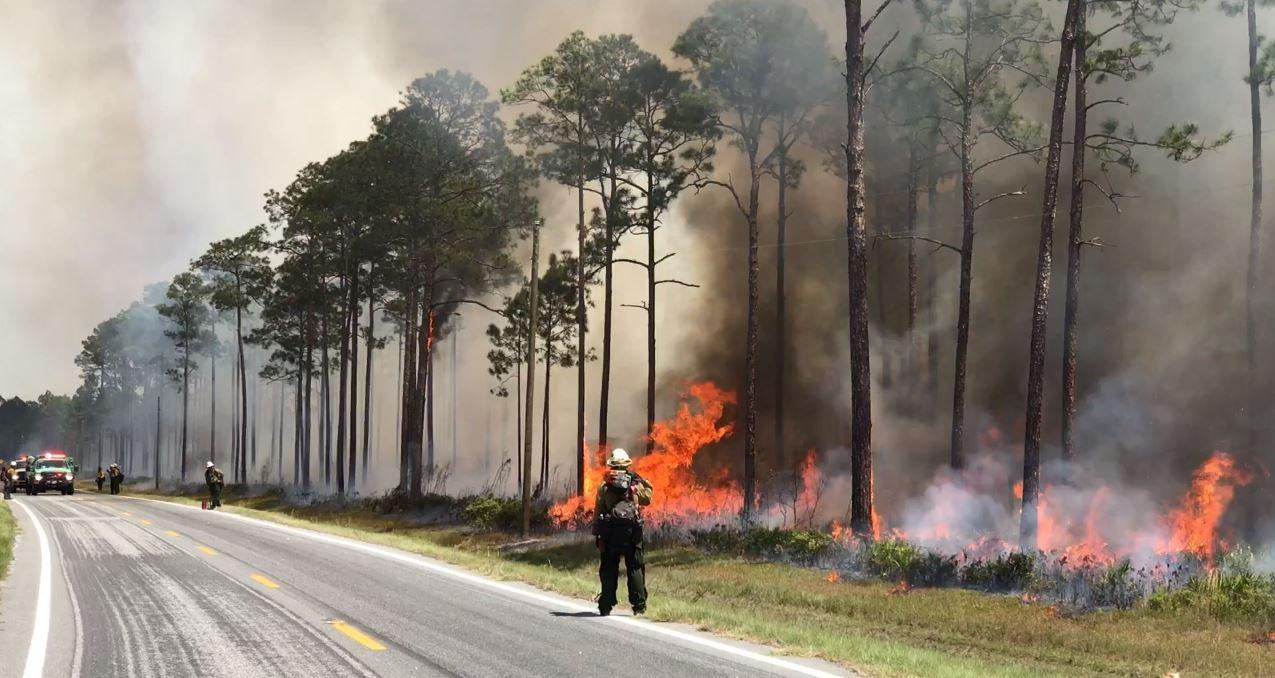Fire: (1013, 428, 1248, 590), (633, 384, 765, 525), (829, 438, 959, 543), (545, 450, 607, 523), (790, 449, 823, 513)
